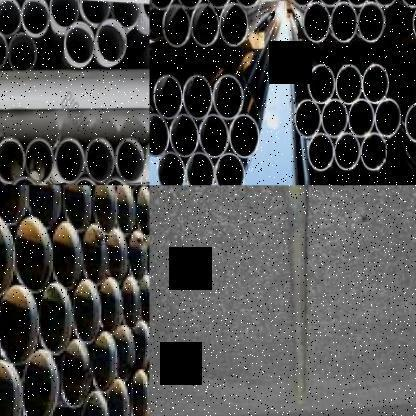pipe: (10, 214, 56, 298), (0, 282, 40, 368), (18, 348, 62, 416), (36, 285, 73, 359), (49, 219, 86, 292), (57, 338, 90, 412), (85, 331, 121, 396), (70, 277, 102, 345), (22, 185, 64, 231), (80, 221, 107, 288), (61, 185, 94, 233), (98, 275, 124, 335), (212, 74, 244, 121), (89, 185, 118, 236), (0, 210, 16, 301), (119, 274, 143, 334), (104, 228, 130, 283), (0, 356, 23, 416), (198, 115, 230, 158), (230, 113, 260, 158), (56, 137, 84, 184), (183, 75, 212, 120), (64, 22, 95, 64), (86, 138, 114, 184), (154, 74, 182, 120), (219, 2, 248, 46), (113, 324, 134, 384), (26, 138, 53, 184), (117, 138, 145, 182), (98, 18, 126, 62), (112, 185, 136, 236), (0, 136, 25, 184), (192, 3, 219, 47), (162, 4, 190, 46), (130, 317, 150, 375), (170, 115, 198, 156), (127, 367, 150, 416), (128, 321, 150, 372), (362, 64, 390, 104), (303, 2, 330, 43), (0, 185, 29, 223), (308, 64, 335, 104), (331, 2, 358, 42), (358, 2, 385, 42), (8, 32, 36, 70), (360, 132, 388, 170), (103, 378, 131, 416), (214, 152, 245, 186), (375, 98, 401, 138), (336, 64, 362, 104), (294, 100, 321, 138), (127, 227, 146, 281), (308, 133, 334, 171), (334, 132, 360, 170), (321, 100, 347, 138), (186, 152, 214, 186), (157, 152, 185, 186), (22, 0, 48, 35), (149, 114, 169, 156), (134, 188, 150, 240), (50, 0, 79, 27), (0, 0, 21, 36), (76, 394, 110, 416), (112, 2, 140, 28), (82, 0, 110, 25), (405, 102, 416, 142), (139, 283, 149, 318), (174, 0, 204, 9), (145, 361, 150, 415), (150, 0, 176, 10), (0, 29, 6, 69), (138, 4, 150, 23), (204, 1, 232, 7), (316, 0, 343, 6), (344, 0, 371, 6), (371, 0, 398, 6), (289, 0, 316, 6), (234, 0, 261, 6), (400, 1, 416, 7)
